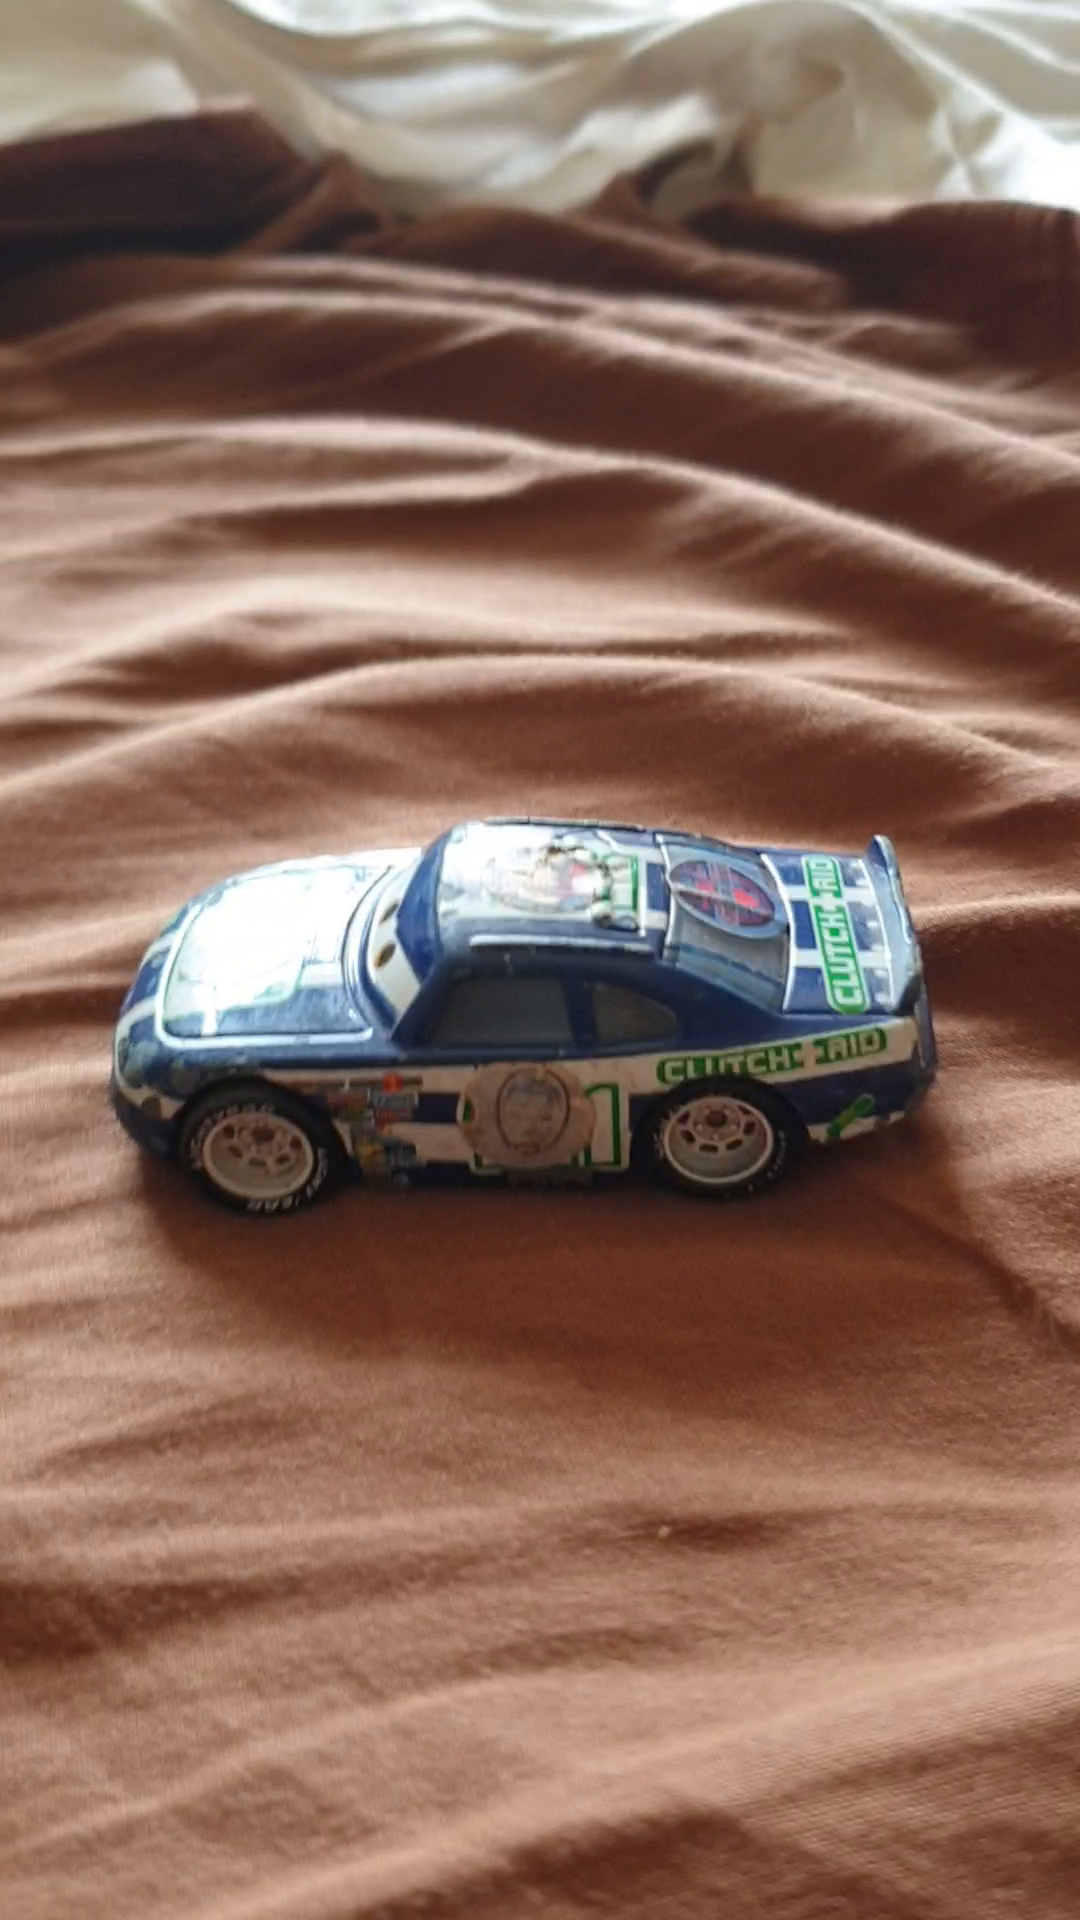cars: (104, 800, 934, 1226)
